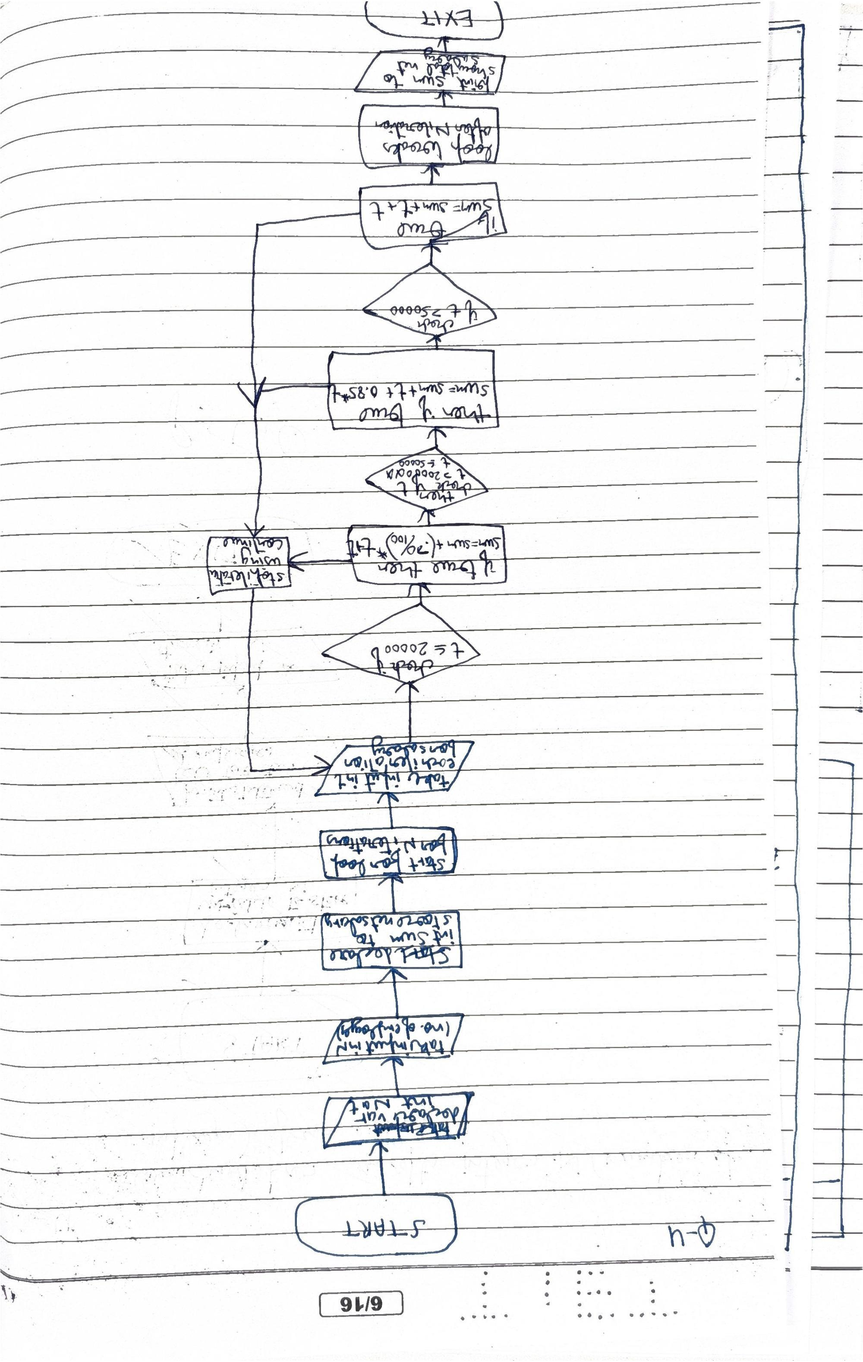cuttings: (370, 1114, 455, 1141), (393, 943, 454, 968)
